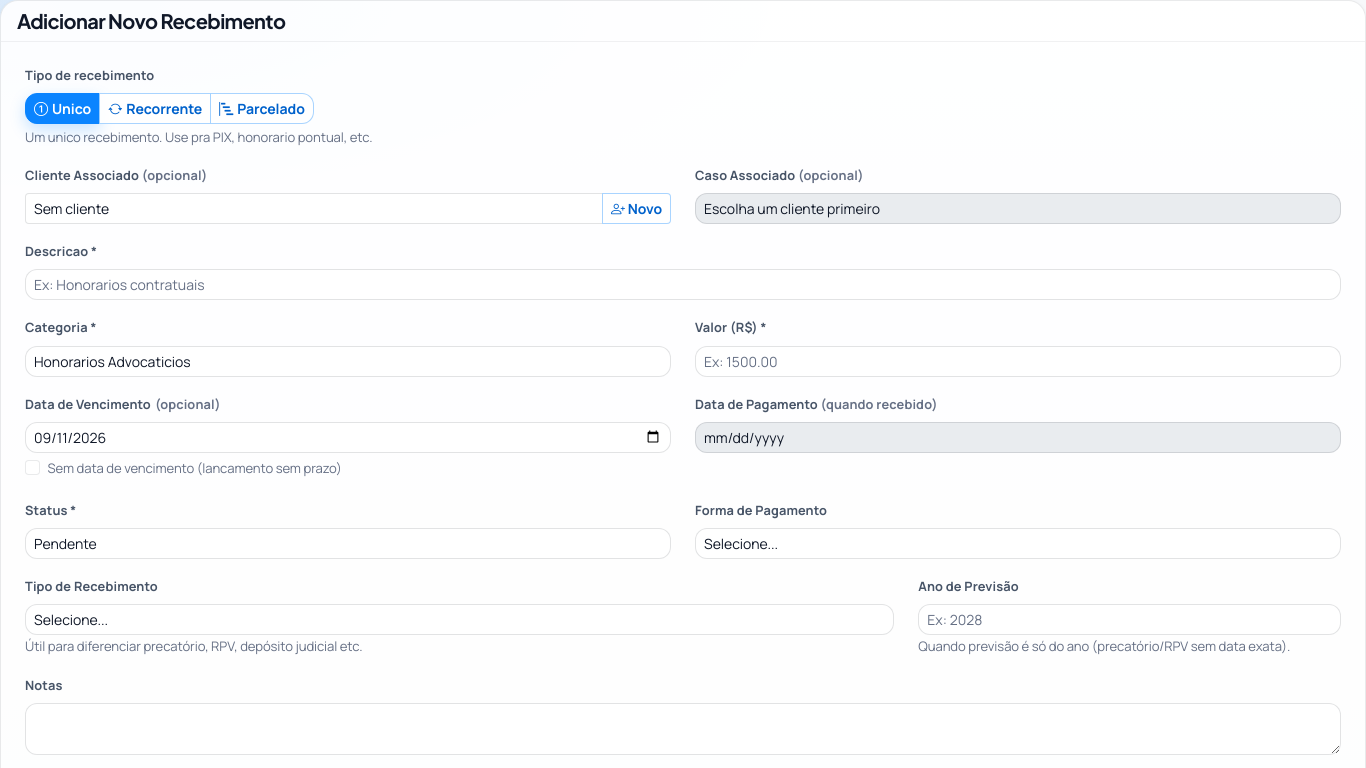
Test case: RecebimentoForm robusto (Fase 2) › botao "Novo" abre o modal de cadastro rapido
This screenshot has width=1366, height=768.
Click the button "Novo" at (637, 209), box [602, 193, 671, 224]
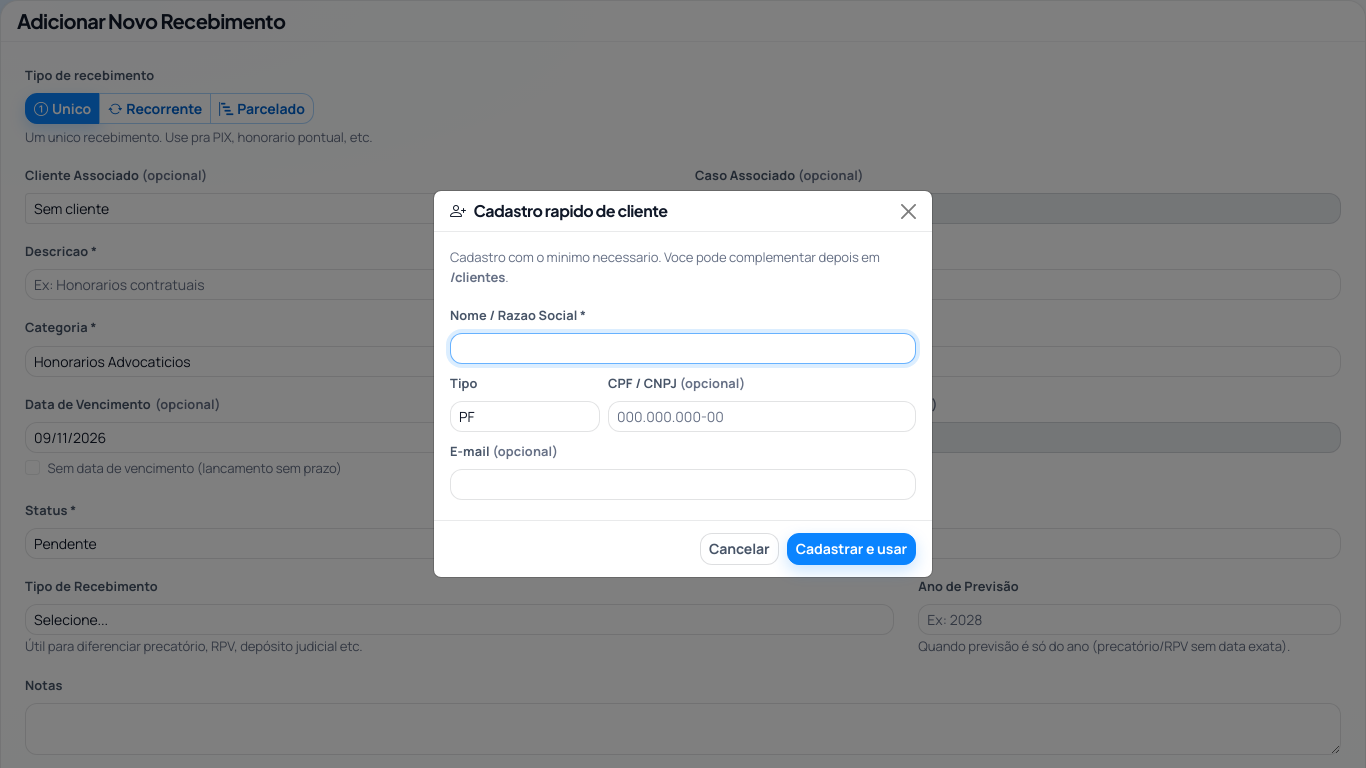
Expected: the heading "Cadastro rapido de cliente" is shown, [450, 200, 668, 224]
